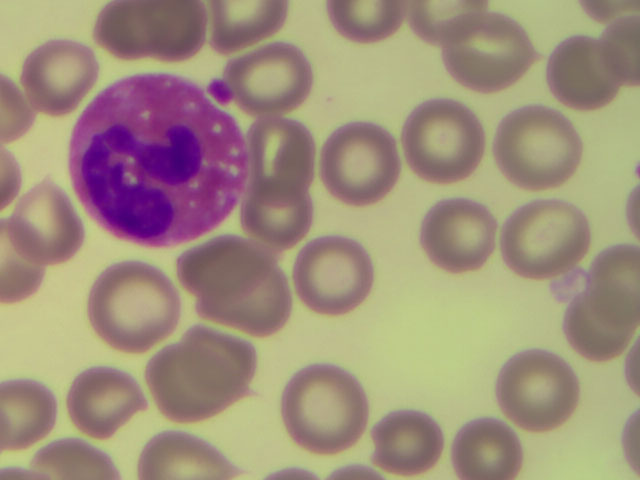RBC: (223, 38, 313, 119), (245, 117, 335, 198), (307, 125, 397, 206), (394, 98, 484, 179), (498, 105, 588, 186), (418, 193, 508, 274), (497, 191, 587, 272), (550, 282, 640, 363), (488, 350, 578, 431), (449, 399, 539, 480), (357, 399, 447, 480), (277, 361, 367, 442), (293, 235, 383, 316), (231, 176, 321, 257), (169, 220, 259, 301), (204, 259, 294, 340), (87, 261, 177, 342), (138, 343, 228, 424), (182, 310, 272, 391), (63, 358, 153, 439), (21, 36, 111, 117), (440, 16, 530, 97), (540, 30, 630, 111), (1, 184, 90, 265), (82, 1, 172, 81)
WBC: (68, 73, 245, 249)
